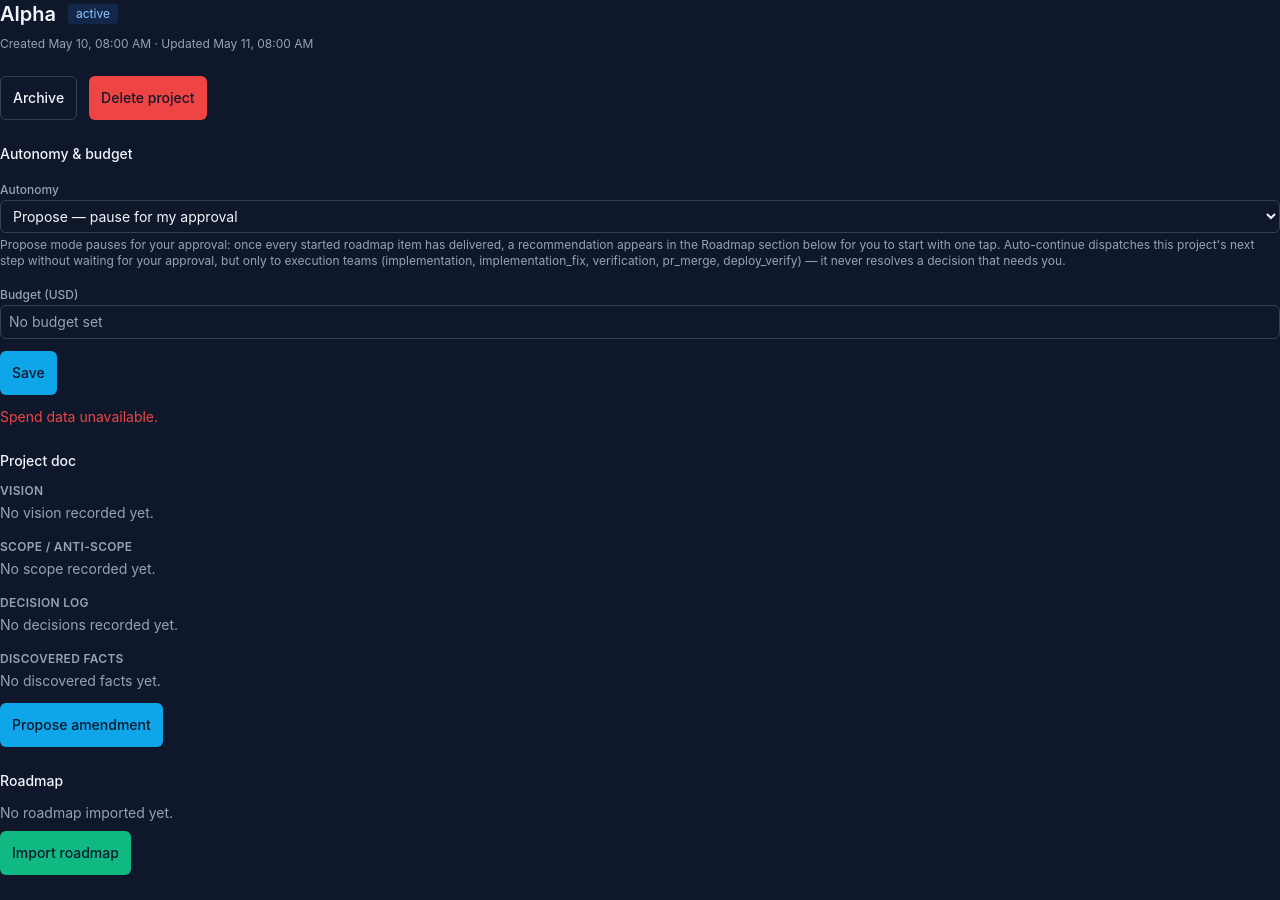
Test case: Project dialogs adopt the shared DialogFrame › gives the propose-amendment dialog an accessible name matching its purpose
This screenshot has width=1280, height=900.
Click the button with test id "propose-amendment-button". click: (81, 725)
box: [0,703,163,747]
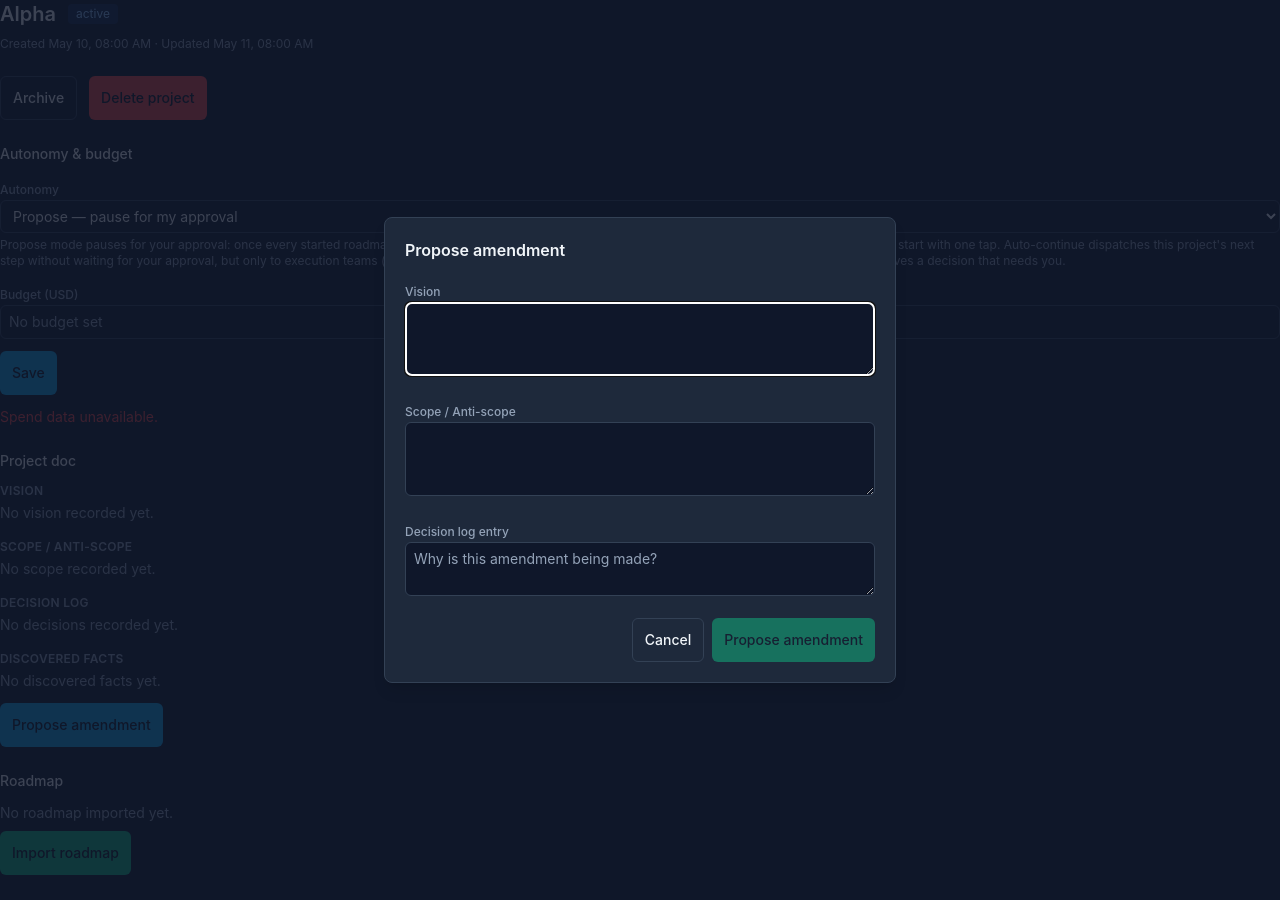
Now the dialog named "Propose vision/scope amendment" is shown, box [384,217,896,683]
